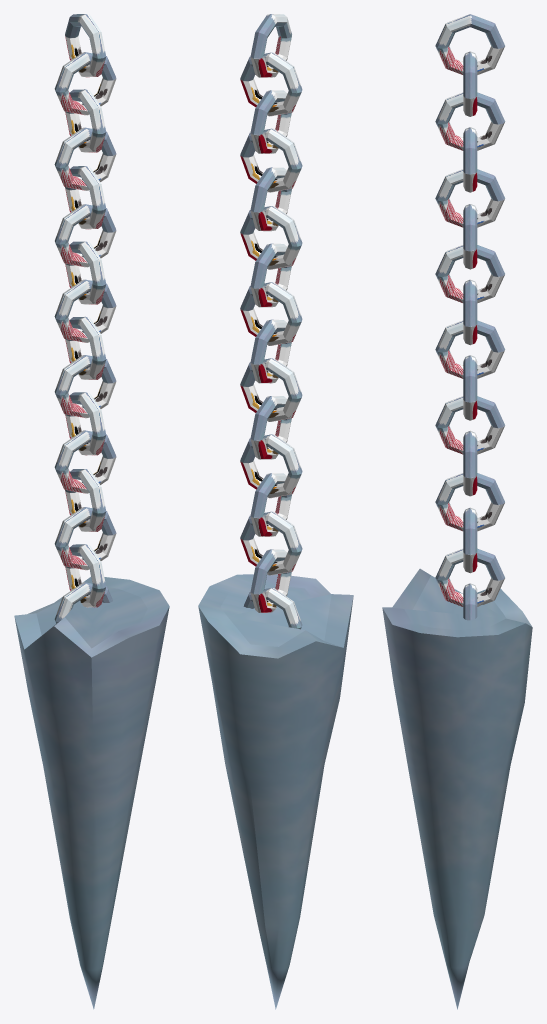
The model's file is estalagtita2.fbx.
3 views of the same model, side by side, from view 1: azimuth 30°, elevation 25°; view 2: azimuth 150°, elevation 25°; view 3: azimuth 270°, elevation 25° (orthographic).
Visible parts, largest first — view 1: EstalagtitaMalo.001, Torus.008; view 2: EstalagtitaMalo.001, Torus.008; view 3: EstalagtitaMalo.001, Torus.008.
Part boxes in pixels (x1=…): EstalagtitaMalo.001: x1=14, y1=577, x2=169, y2=1009; Torus.008: x1=54, y1=14, x2=116, y2=623; EstalagtitaMalo.001: x1=198, y1=574, x2=353, y2=1009; Torus.008: x1=240, y1=14, x2=302, y2=629; EstalagtitaMalo.001: x1=382, y1=568, x2=532, y2=1009; Torus.008: x1=435, y1=14, x2=505, y2=620.
Size of the model in its own units: 121 by 853 by 117.
